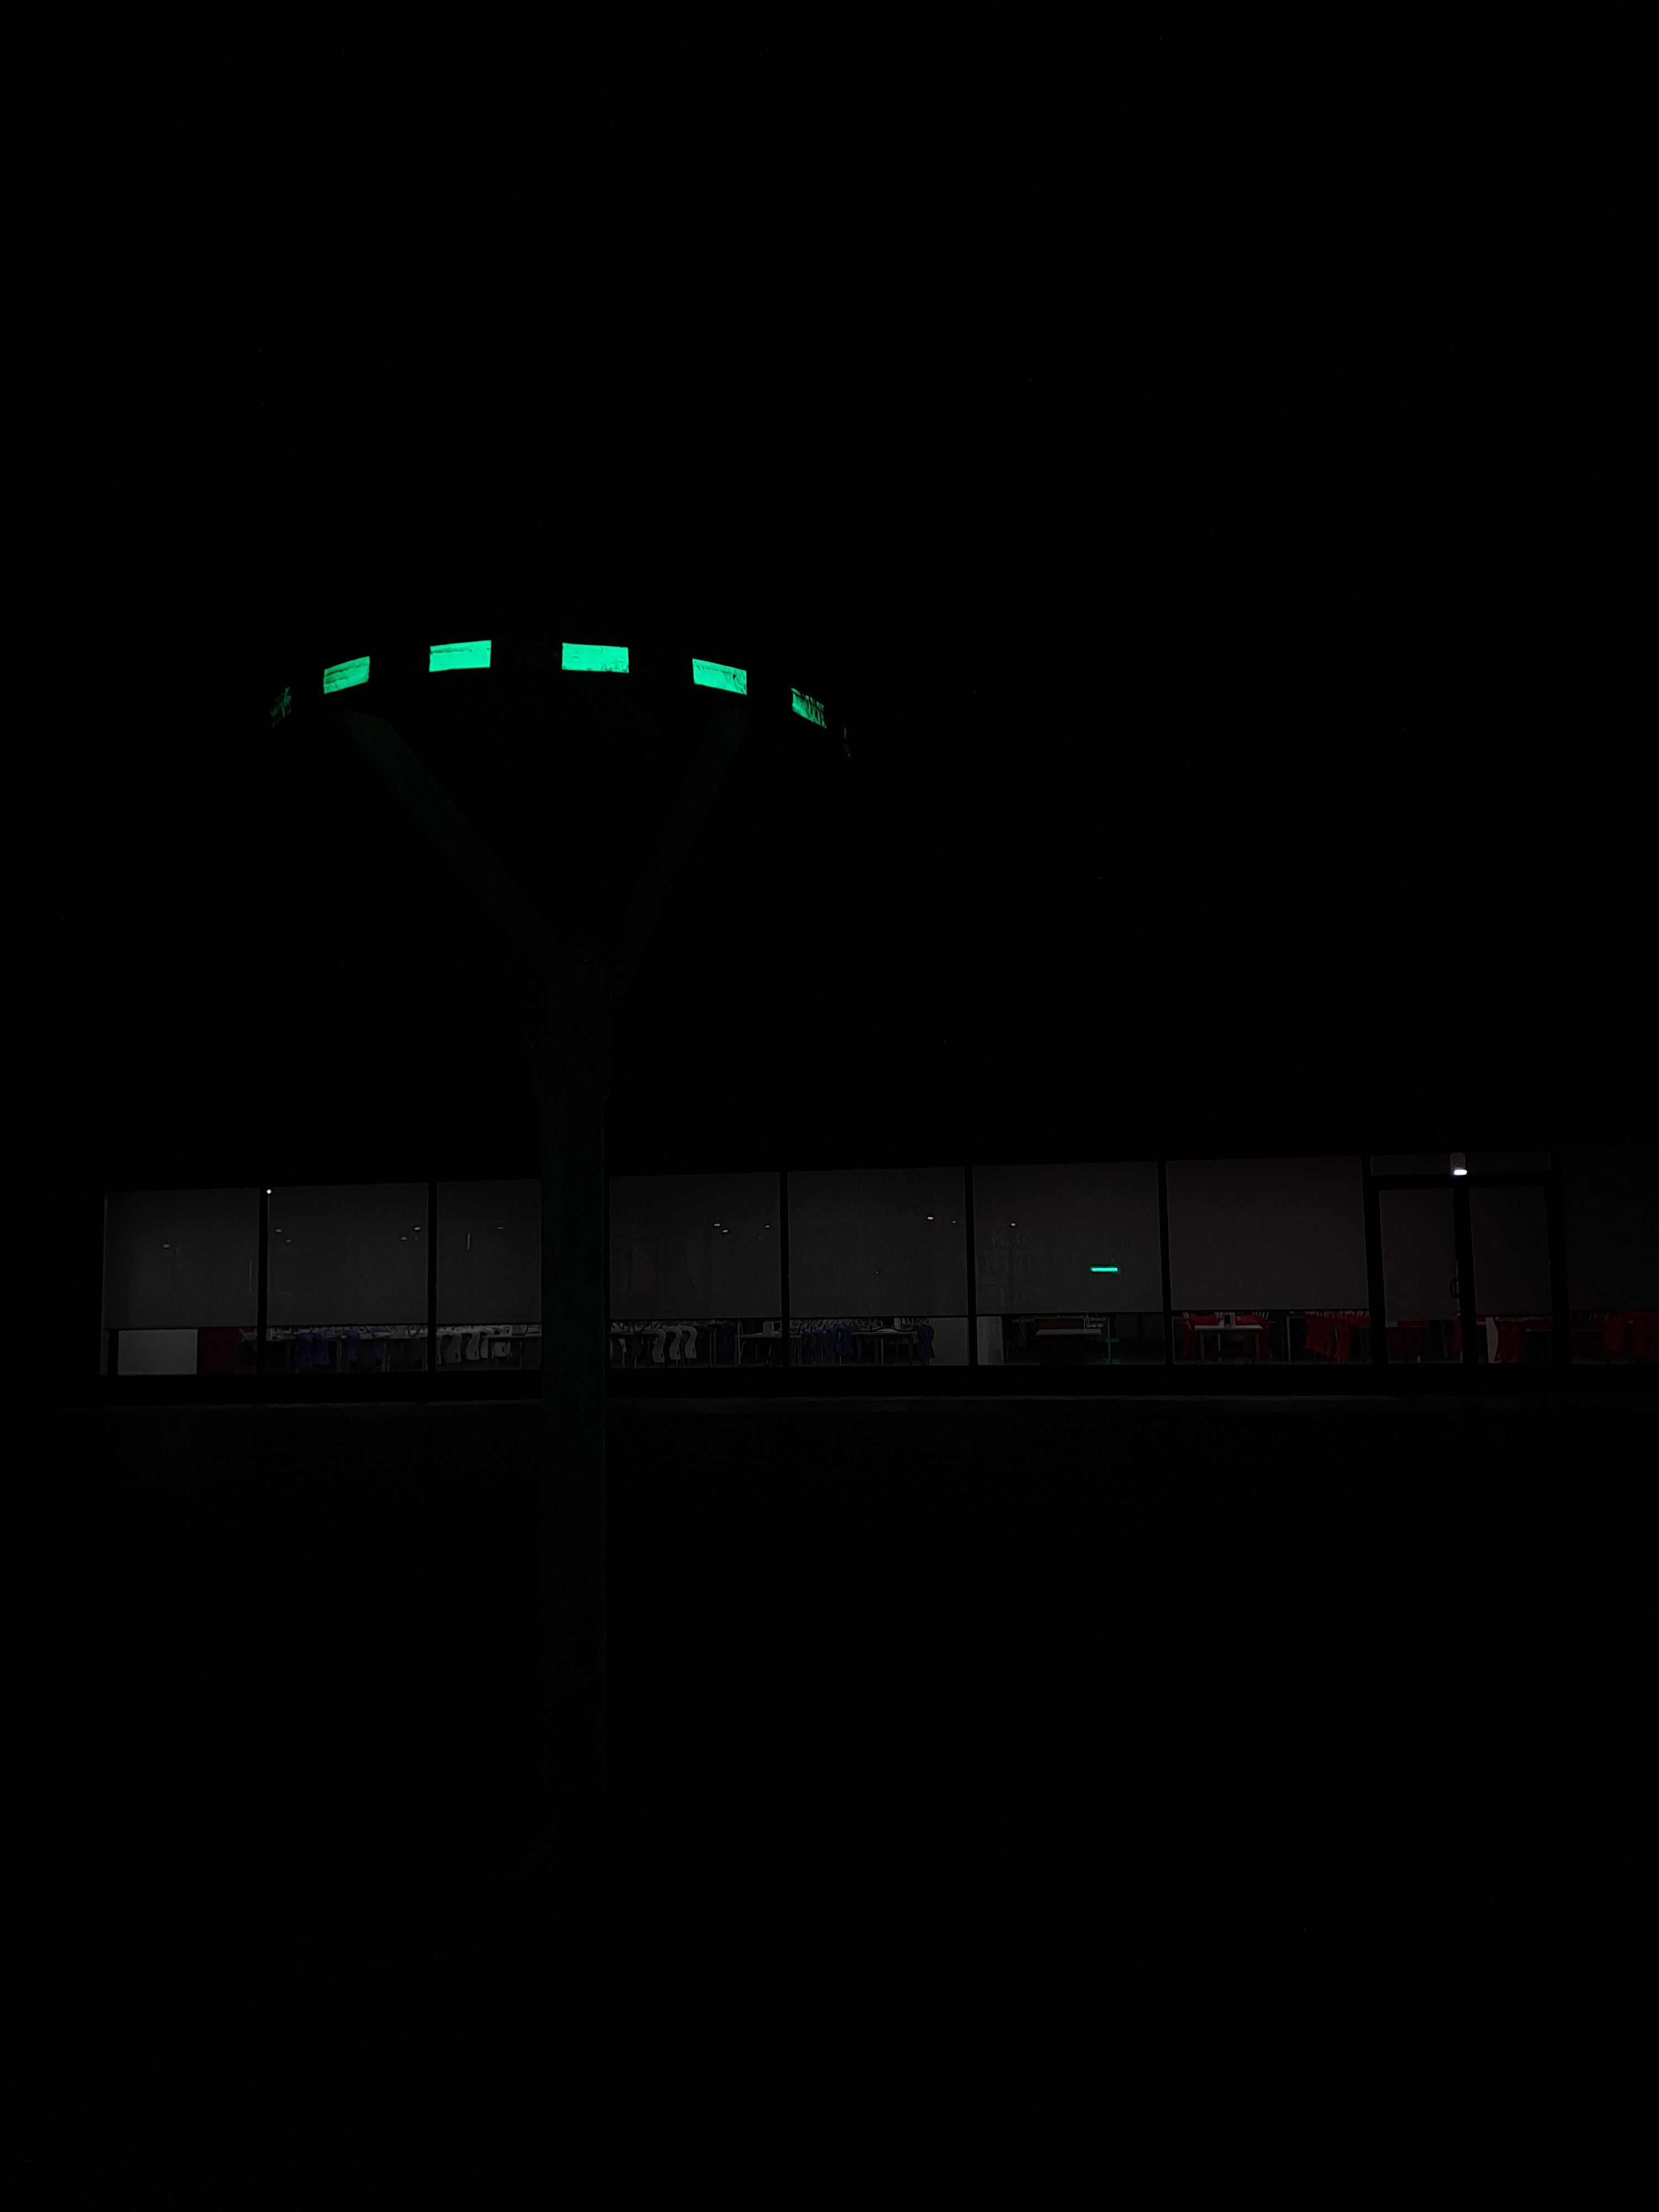hoop: (303, 629, 831, 733)
